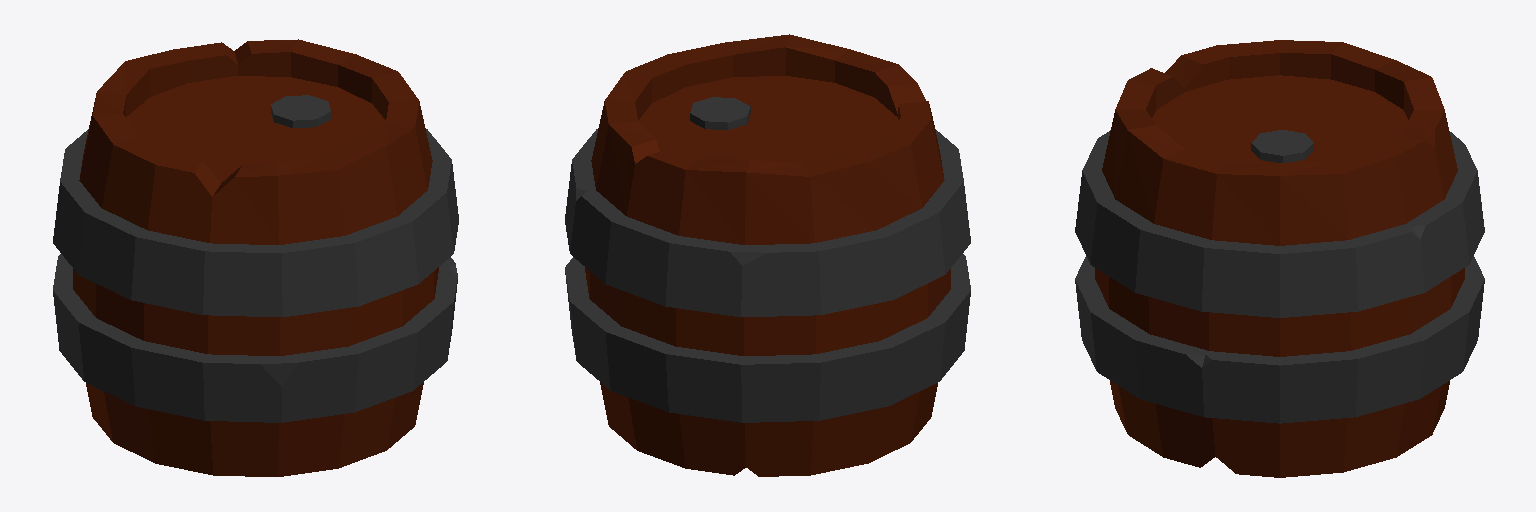
Rendered from oil_barrel_broken.obj.
The picture shows the model from 3 angles: view 1: azimuth 30°, elevation 25°; view 2: azimuth 150°, elevation 25°; view 3: azimuth 270°, elevation 25°; orthographic projection.
Parts seen in each view (by area): view 1: Cylinder.007, Cylinder.006; view 2: Cylinder.007, Cylinder.006; view 3: Cylinder.007, Cylinder.006.
Boxes of the visible parts, box(x1,y1,x2,y2) form: Cylinder.007: box(53, 39, 458, 476); Cylinder.006: box(271, 95, 330, 127); Cylinder.007: box(565, 34, 970, 476); Cylinder.006: box(690, 97, 750, 129); Cylinder.007: box(1075, 40, 1484, 477); Cylinder.006: box(1251, 130, 1313, 162).
Bounding box in the file's own units: 2.49 × 2.04 × 2.49.